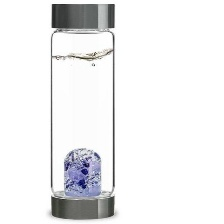bottle: (47, 2, 125, 221)
